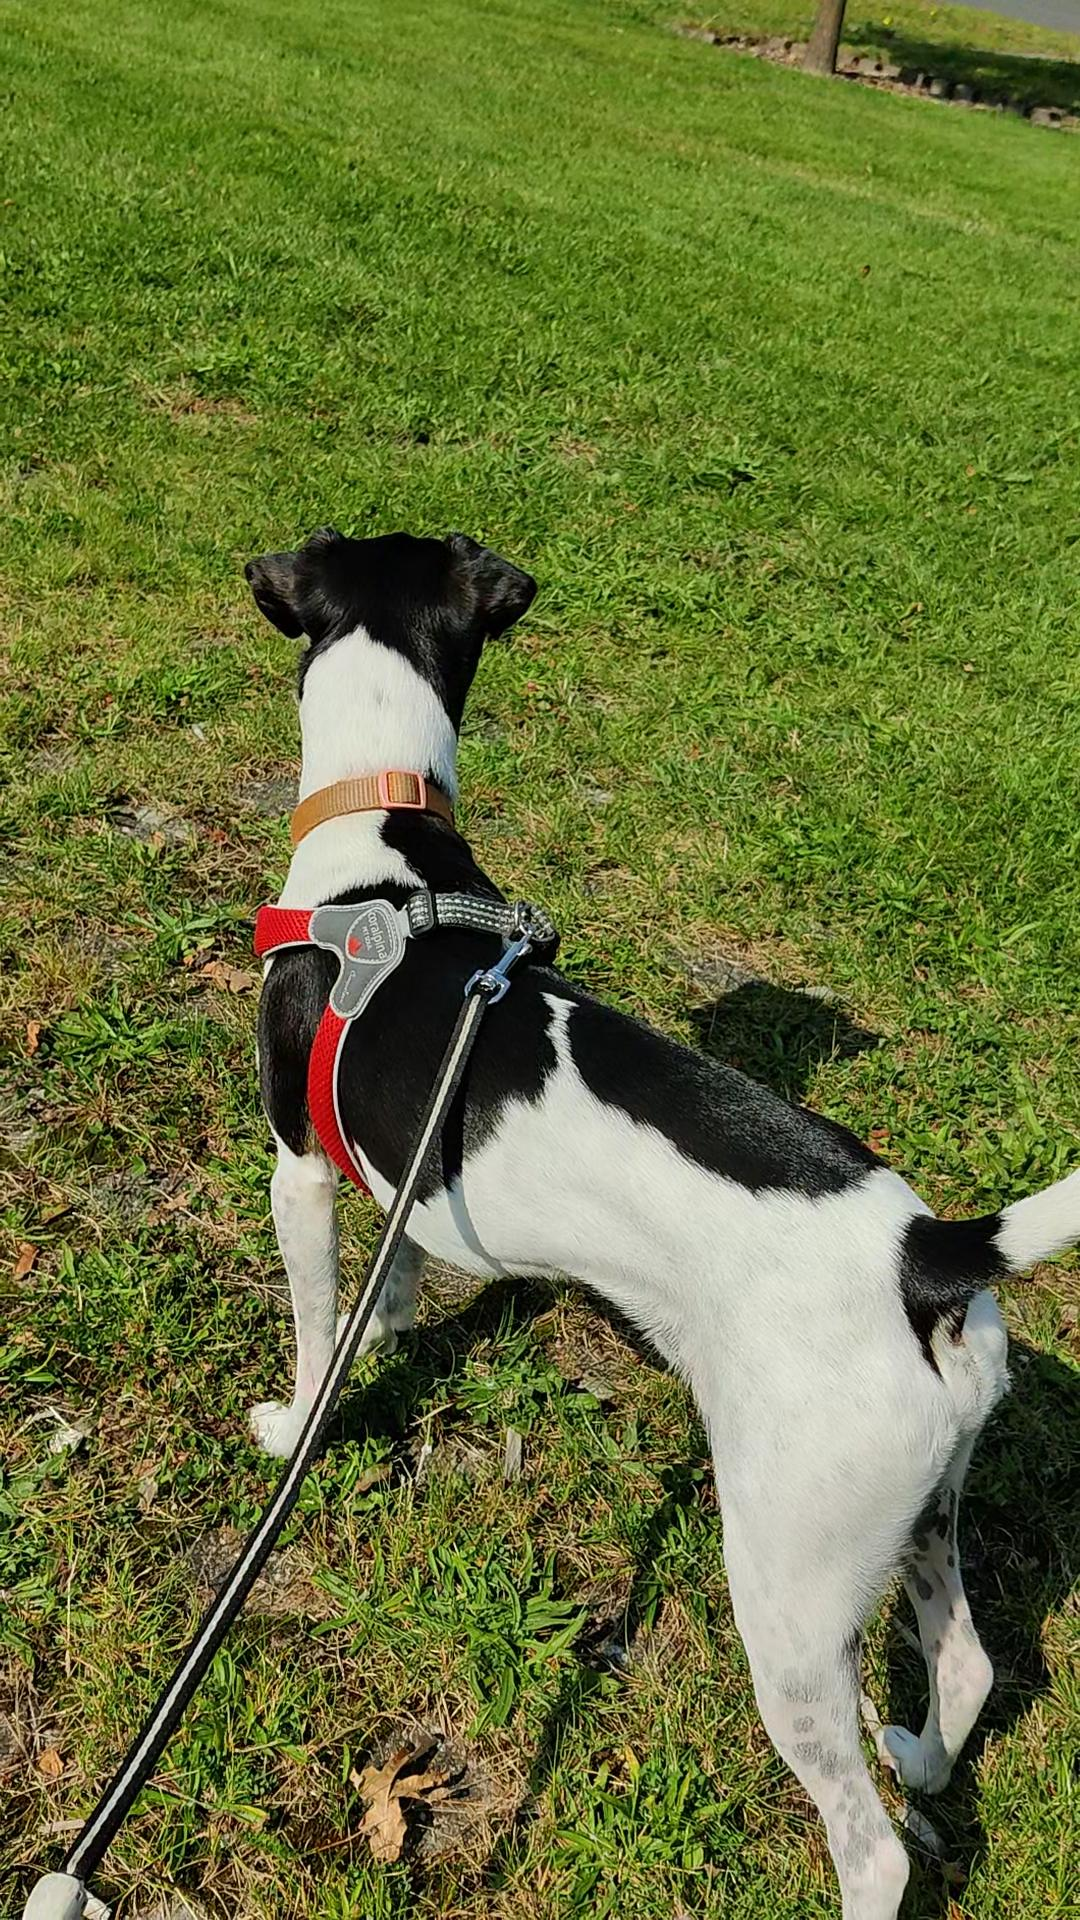Dog: (208, 495, 1079, 1919)
